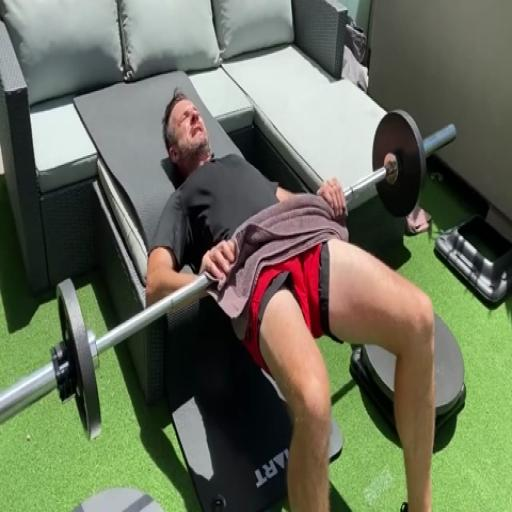exercise: (143, 90, 440, 510)
